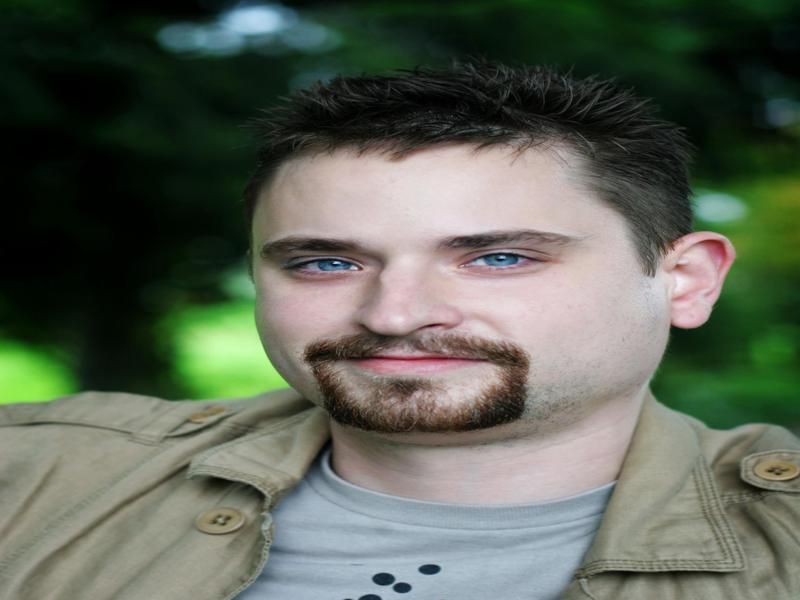person: (30, 70, 777, 600)
